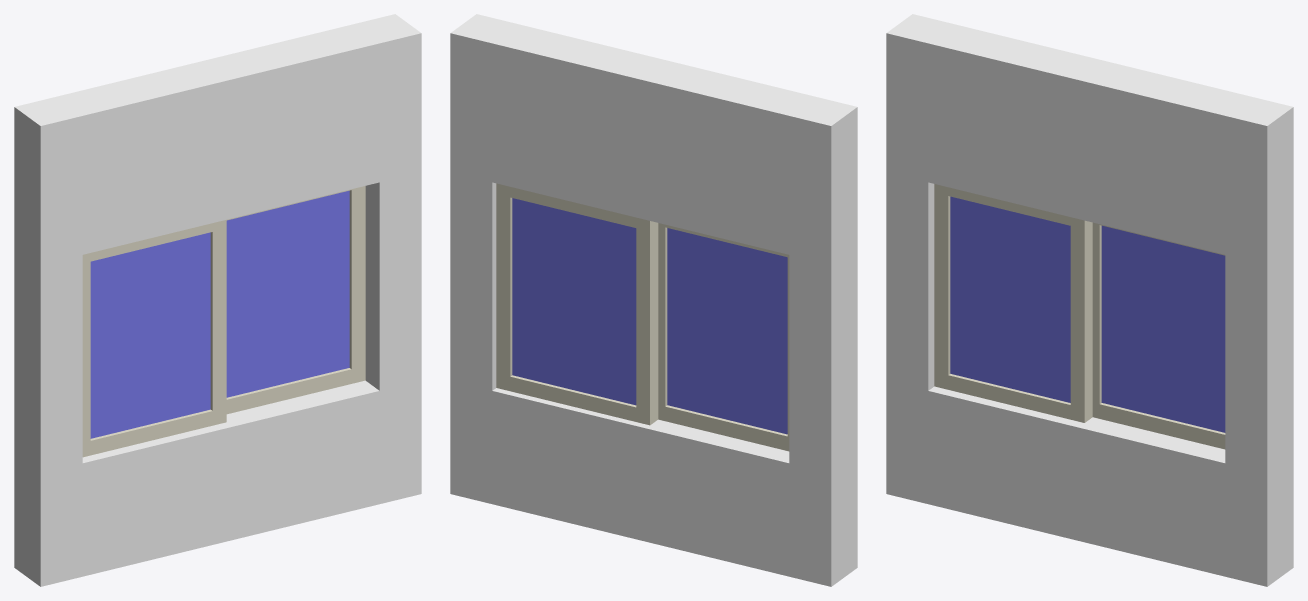
Rendered from Operating_room_Window4-1.fbx.
3 views of the same model, side by side, from view 1: azimuth 30°, elevation 25°; view 2: azimuth 150°, elevation 25°; view 3: azimuth 330°, elevation 25° (orthographic).
Visible parts, largest first — view 1: Operating room Window4-1.004, Operating room Window4-1, Operating room Window4-1.002, Operating room Window4-1.001, Operating room Window4-1.003; view 2: Operating room Window4-1.004, Operating room Window4-1, Operating room Window4-1.002, Operating room Window4-1.003, Operating room Window4-1.001; view 3: Operating room Window4-1.004, Operating room Window4-1, Operating room Window4-1.002, Operating room Window4-1.001, Operating room Window4-1.003.
Boxes of the visible parts, x1,y1,x2,y2 form: Operating room Window4-1.004: (14,14,421,586); Operating room Window4-1: (226,190,349,397); Operating room Window4-1.002: (90,232,210,438); Operating room Window4-1.001: (82,220,226,457); Operating room Window4-1.003: (226,186,365,414); Operating room Window4-1.004: (450,14,857,586); Operating room Window4-1: (512,198,636,405); Operating room Window4-1.002: (667,228,787,434); Operating room Window4-1.003: (496,183,658,425); Operating room Window4-1.001: (658,223,789,451); Operating room Window4-1.004: (886,14,1293,586); Operating room Window4-1: (1101,225,1225,432); Operating room Window4-1.002: (950,196,1070,402); Operating room Window4-1.001: (934,184,1092,422); Operating room Window4-1.003: (1092,222,1225,449).
Size of the model in its own units: 10.9 by 12.6 by 1.3.
